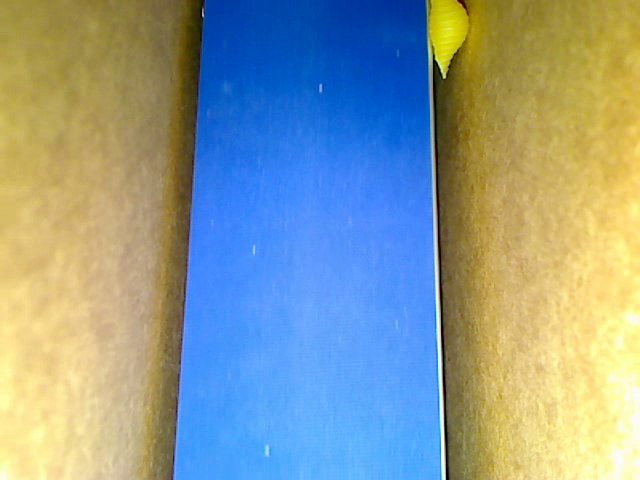shell: (423, 1, 471, 81)
